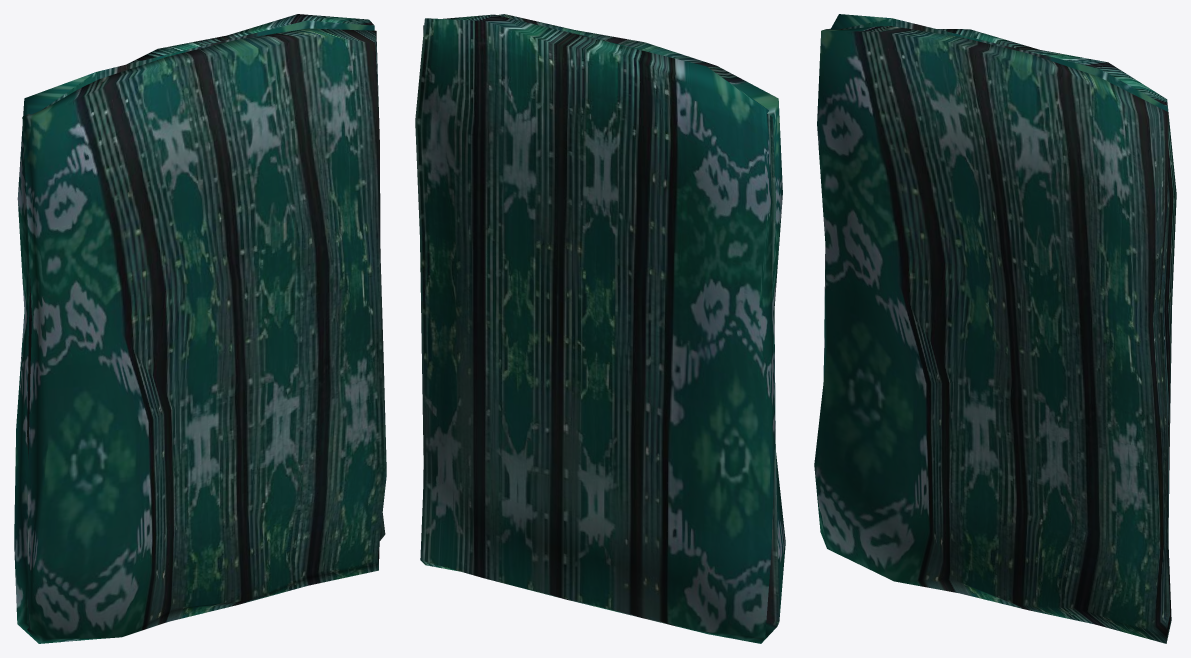
File: kain tenun1.fbx
3 views of the same model, side by side, from view 1: azimuth 30°, elevation 25°; view 2: azimuth 150°, elevation 25°; view 3: azimuth 330°, elevation 25° (orthographic). The views are drawn at different scales.
Visible parts, largest first — view 1: Object_2; view 2: Object_2; view 3: Object_2.
Part boxes in pixels (left/top/right/bottom): Object_2: left=14, top=14, right=386, bottom=643; Object_2: left=415, top=14, right=785, bottom=643; Object_2: left=814, top=14, right=1176, bottom=643.
Size of the model in its own units: 2558 by 3854 by 321.
